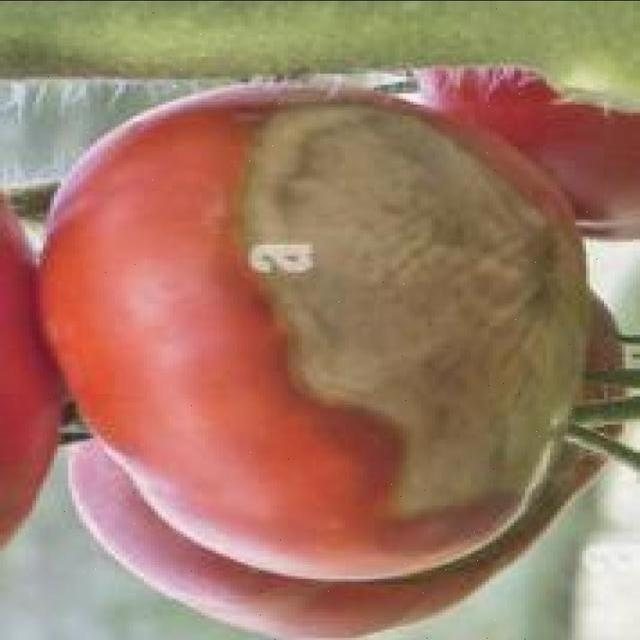Blossom End Rot Fruit: (145, 71, 385, 350)
